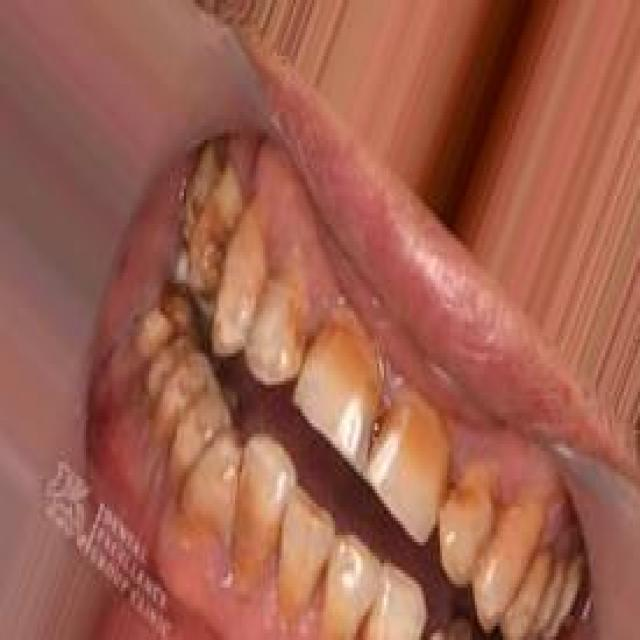caries: (192, 203, 236, 290)
